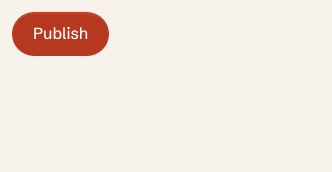
ActionForm › sends the clicked choice and keeps the result on screen when the choices change
Later steps or results of the test are not shown.
What coordinates should you click on to do the following:
click the button "Publish"
I would click on:
 (60, 34)
Its box is [12,12,109,56].
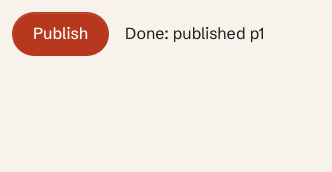
Now the message reads "Done: published p1", box [125,23,264,43]
